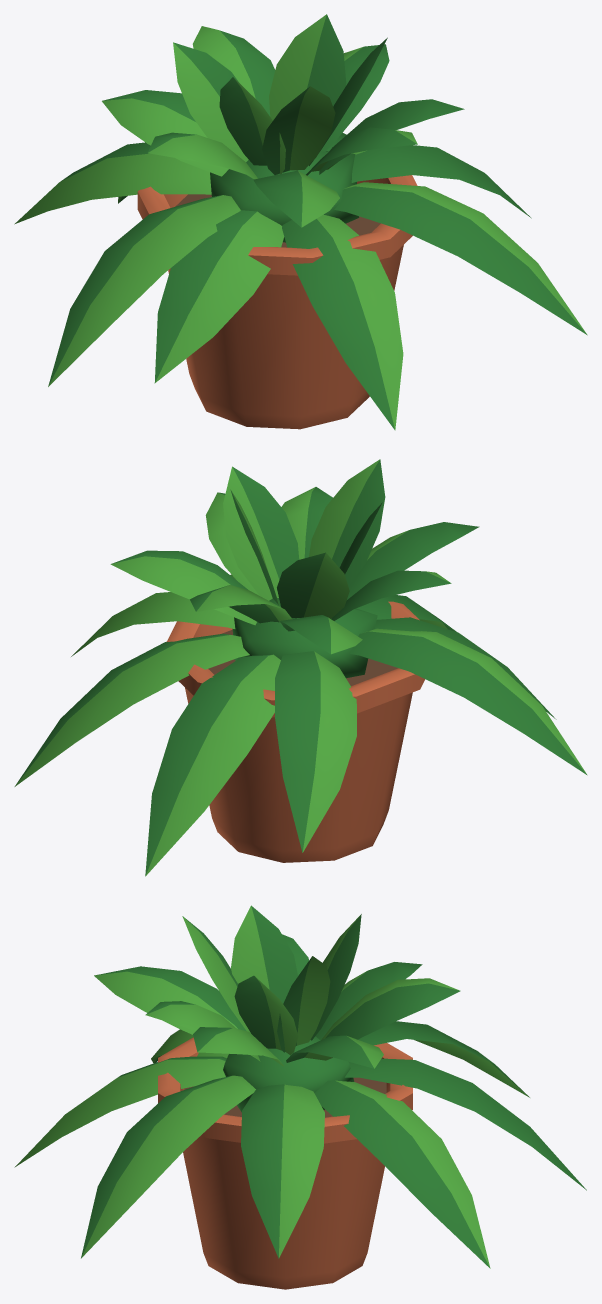
Rendered from prop_pot_plant.glb.
3 renders of one model, top to bottom at view 1: azimuth 30°, elevation 25°; view 2: azimuth 150°, elevation 25°; view 3: azimuth 270°, elevation 25°, orthographic. The views are drawn at different scales.
Visible parts, largest first — view 1: prop_pot_plant; view 2: prop_pot_plant; view 3: prop_pot_plant.
Boxes of the visible parts, x1=… form: prop_pot_plant: x1=14, y1=14, x2=587, y2=430; prop_pot_plant: x1=14, y1=459, x2=587, y2=876; prop_pot_plant: x1=14, y1=905, x2=586, y2=1289.
Size of the model in its own units: 1.08 by 0.7129 by 1.13.
